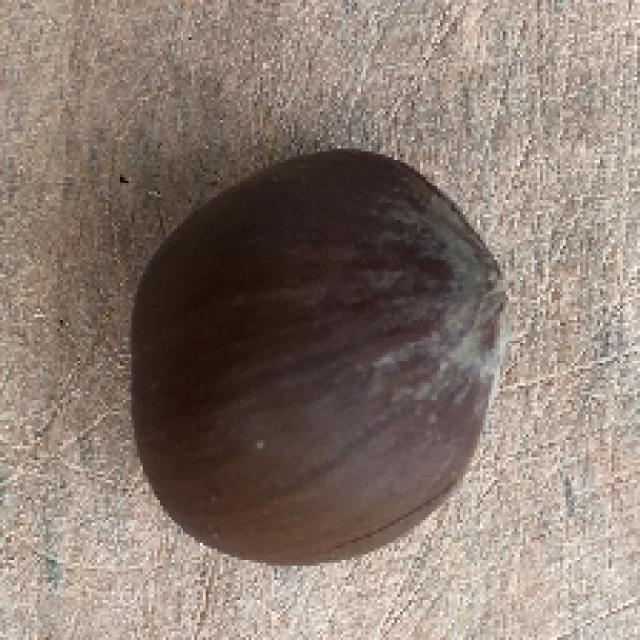damagedHazelnut: (116, 141, 507, 570)
